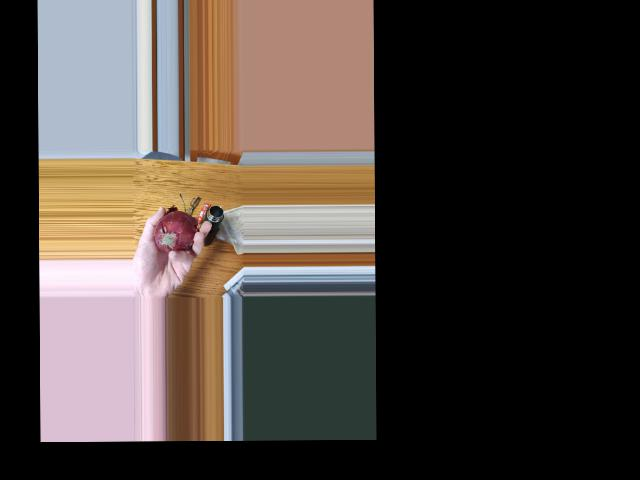onion: (152, 214, 197, 254)
